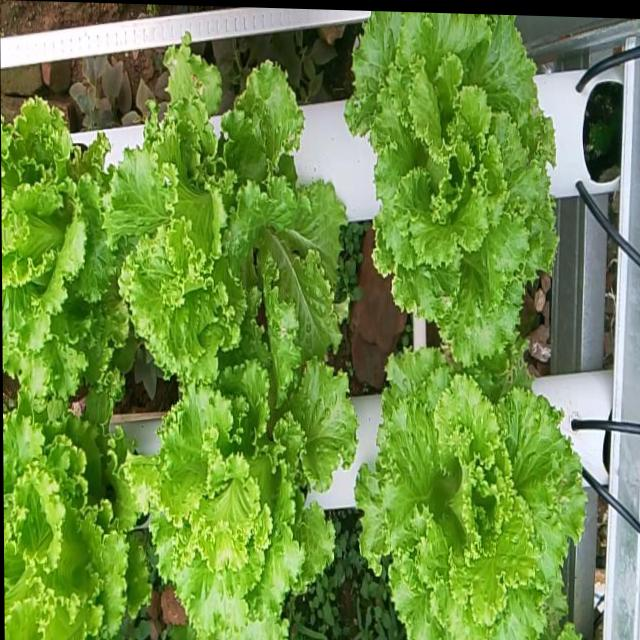Mature: (96, 34, 338, 368), (337, 11, 548, 363), (126, 327, 347, 640), (344, 341, 575, 640), (3, 380, 139, 640), (1, 82, 117, 385)
